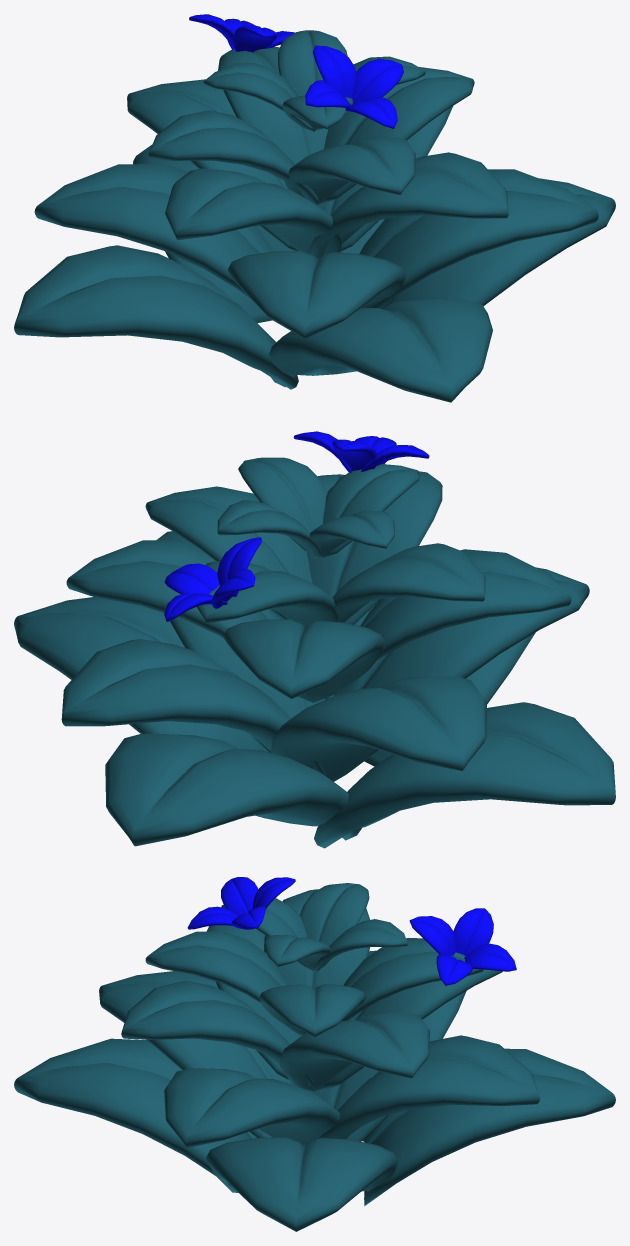
Rendered from MedHealth.FBX.
3 renders of one model, top to bottom at view 1: azimuth 30°, elevation 25°; view 2: azimuth 150°, elevation 25°; view 3: azimuth 270°, elevation 25°, orthographic. The views are drawn at different scales.
Parts seen in each view (by area): view 1: Box012, Box015, Box016; view 2: Box012, Box016, Box015; view 3: Box012, Box016, Box015.
Part boxes in pixels (x1,y1,x2,y2): Box012: (14,30,615,402); Box015: (305,45,403,128); Box016: (189,14,294,52); Box012: (14,457,615,848); Box016: (164,537,261,621); Box015: (293,431,429,472); Box012: (14,883,615,1231); Box016: (409,908,516,985); Box015: (187,877,295,929).
Bounding box in the file's own units: 3.93 × 2.1 × 3.9.
